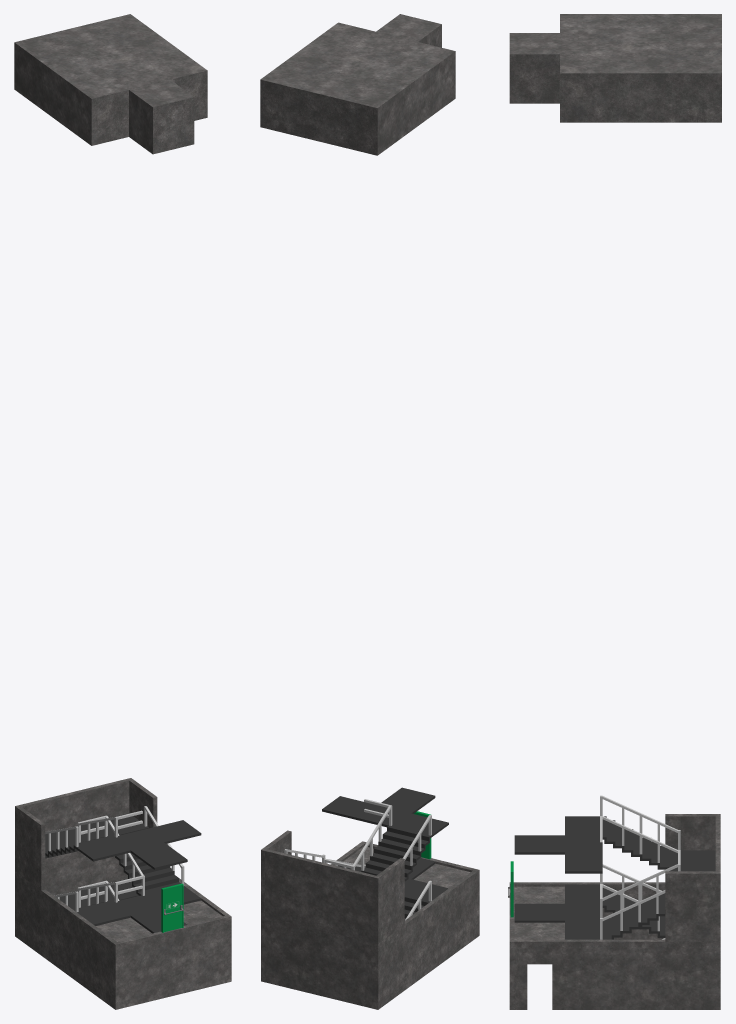
Rendered from OfisAdd-On.fbx.
3 renders of one model, left to right at view 1: azimuth 30°, elevation 25°; view 2: azimuth 150°, elevation 25°; view 3: azimuth 270°, elevation 25°, orthographic. The views are drawn at different scales.
Visible parts, largest first — view 1: Top, BottomPart, FrontWall, Cube.007, TopFloor, Trabzan, Stair, MidFloor, FireDoor.001; view 2: Top, BottomPart, FrontWall, TopFloor, Backup, Trabzan, Cube.007; view 3: Top, BottomPart, FrontWall, Cube.007, TopFloor, Trabzan, Backup, Stair, MidFloor.
Boxes of the visible parts, x1,y1,x2,y2 form: Top: (14, 14, 207, 154); BottomPart: (15, 856, 231, 1009); FrontWall: (15, 778, 157, 890); Cube.007: (54, 875, 201, 933); TopFloor: (75, 820, 201, 869); Trabzan: (45, 806, 184, 895); Stair: (107, 826, 180, 895); MidFloor: (45, 813, 144, 850); FireDoor.001: (164, 886, 183, 932); Top: (260, 14, 455, 155); BottomPart: (261, 841, 479, 1009); FrontWall: (261, 830, 404, 943); TopFloor: (322, 787, 448, 837); Backup: (361, 825, 430, 881); Trabzan: (284, 799, 431, 870); Cube.007: (337, 858, 448, 920); Top: (509, 14, 721, 122); BottomPart: (509, 882, 720, 1009); FrontWall: (665, 814, 720, 941); Cube.007: (514, 864, 665, 939); TopFloor: (514, 816, 602, 873); Trabzan: (600, 795, 680, 939); Backup: (602, 816, 677, 871); Stair: (602, 889, 665, 939); MidFloor: (680, 850, 715, 871).
Size of the model in its own units: 5.6 by 8.52 by 41.17.
